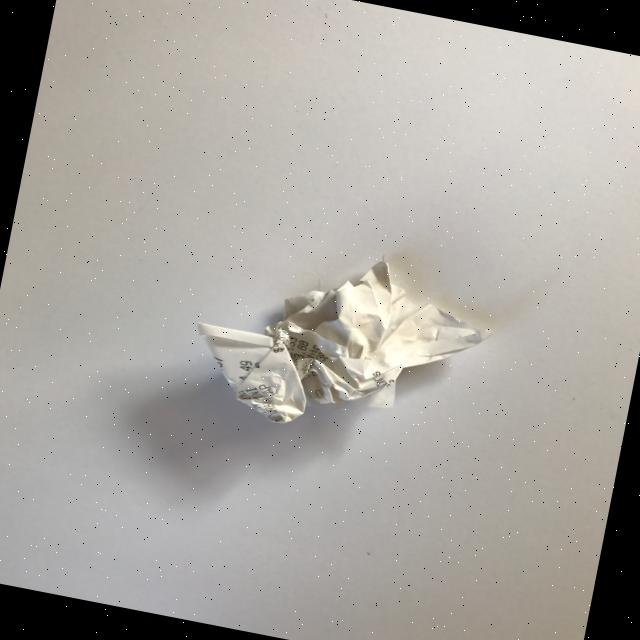paper: (181, 223, 503, 460)
